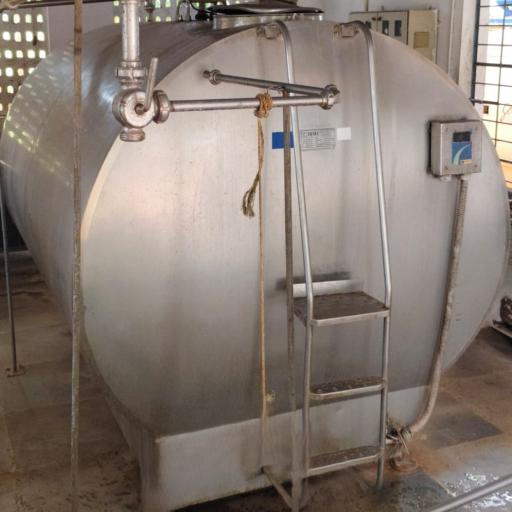silo: (0, 6, 509, 509)
